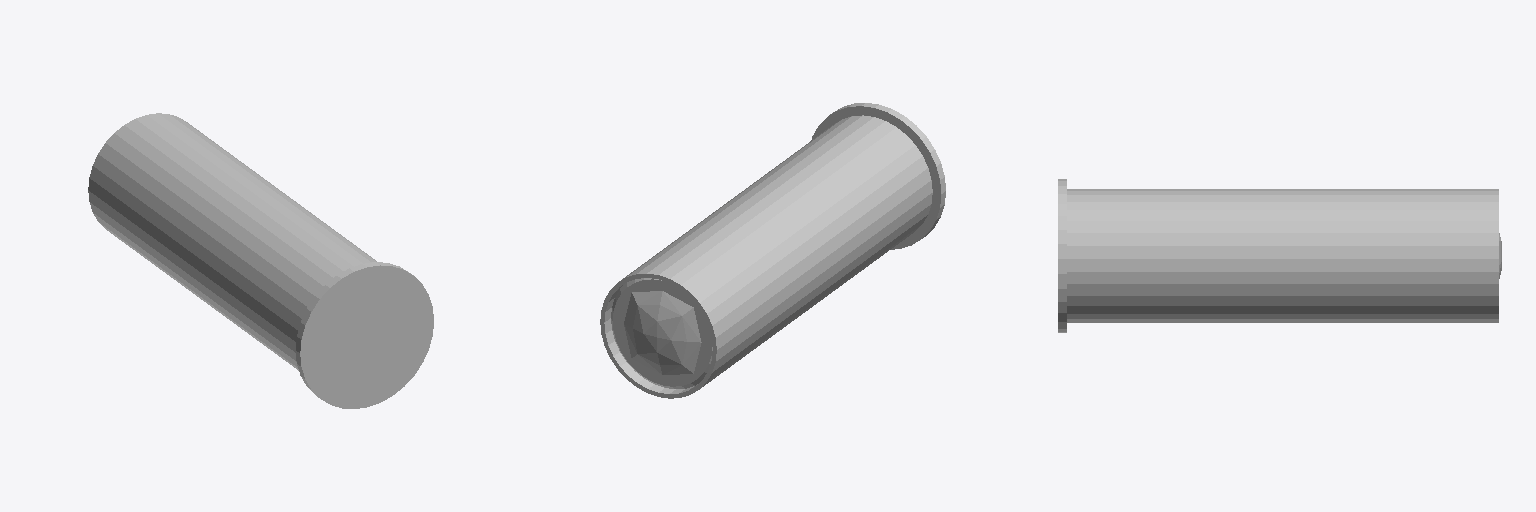
The model's file is Flare_Short.obj.
3 views of the same model, side by side, from view 1: azimuth 30°, elevation 25°; view 2: azimuth 150°, elevation 25°; view 3: azimuth 270°, elevation 25° (orthographic).
Parts seen in each view (by area): view 1: Flare_Short_Circle.093; view 2: Flare_Short_Circle.093; view 3: Flare_Short_Circle.093.
Boxes of the visible parts, x1,y1,x2,y2 form: Flare_Short_Circle.093: [88, 113, 433, 408]; Flare_Short_Circle.093: [600, 103, 945, 398]; Flare_Short_Circle.093: [1058, 179, 1501, 332].
Bounding box in the file's own units: 0.0418 × 0.0418 × 0.1203.